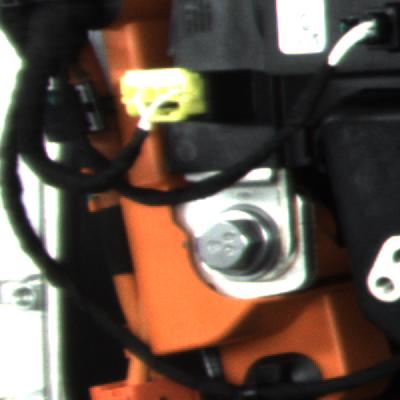nut_b: (193, 205, 293, 287)
